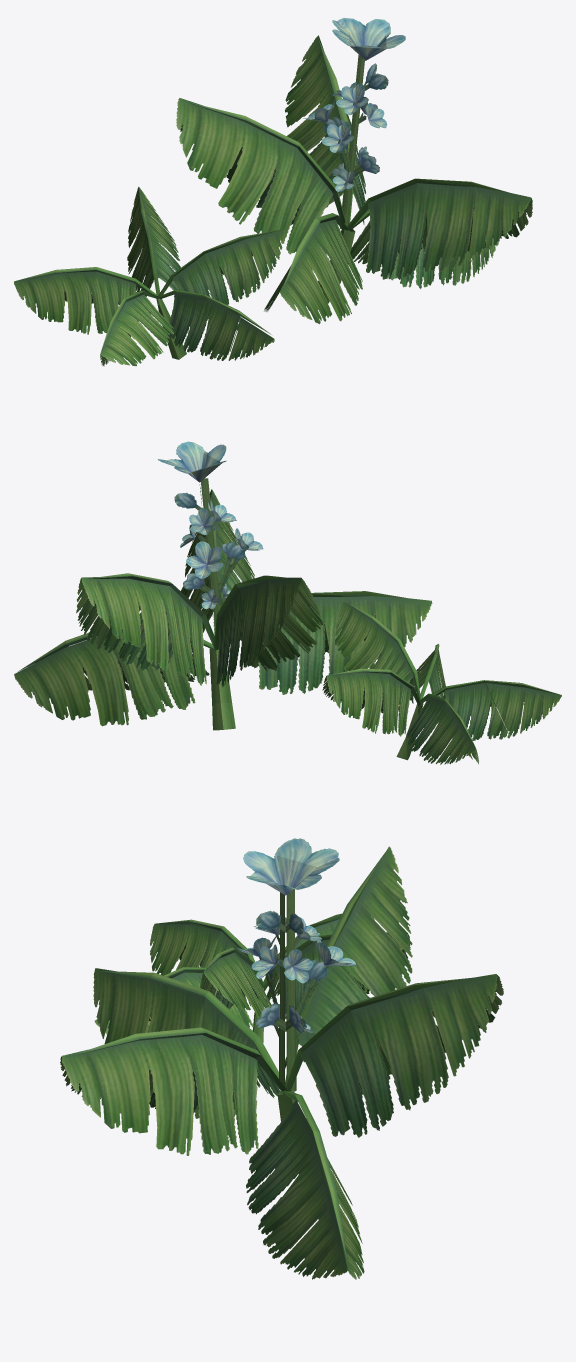
The model's file is cao2.fbx.
3 renders of one model, top to bottom at view 1: azimuth 30°, elevation 25°; view 2: azimuth 150°, elevation 25°; view 3: azimuth 270°, elevation 25°, orthographic. The views are drawn at different scales.
Parts seen in each view (by area): view 1: cao2; view 2: cao2; view 3: cao2.
Part boxes in pixels (x1,y1,x2,y2): cao2: (14, 18, 532, 366); cao2: (14, 441, 561, 764); cao2: (60, 838, 503, 1279).
Size of the model in its own units: 1204 by 771 by 931.
Materials: 1 (1 with a texture image).
